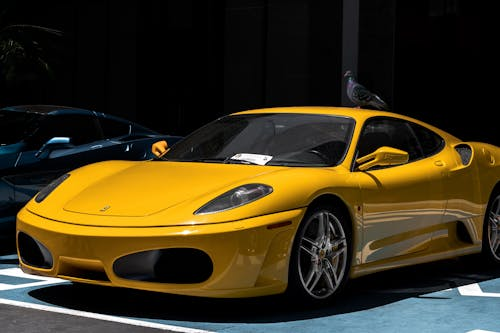other: (15, 107, 500, 305)
